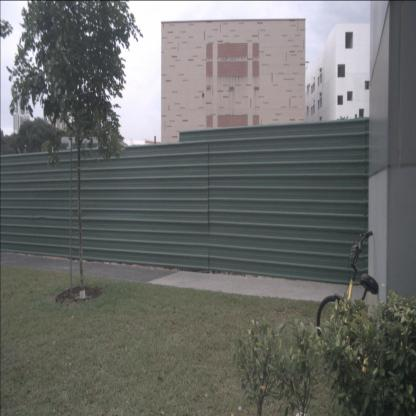vehicle-bicycle: (316, 231, 378, 390)
